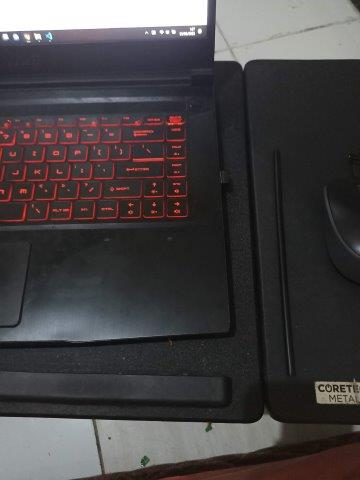sedotan: (273, 149, 295, 376)
